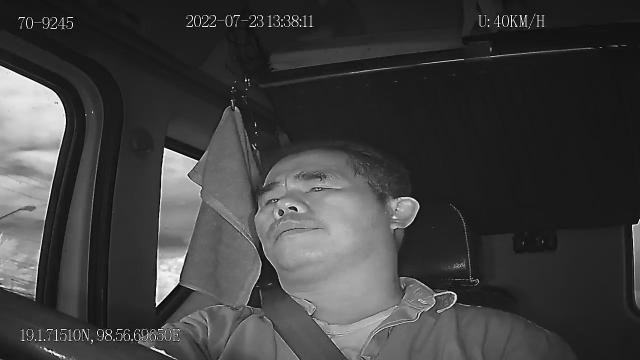SafeDriving: (298, 172, 344, 196)
Seatbelt: (258, 286, 350, 360)
